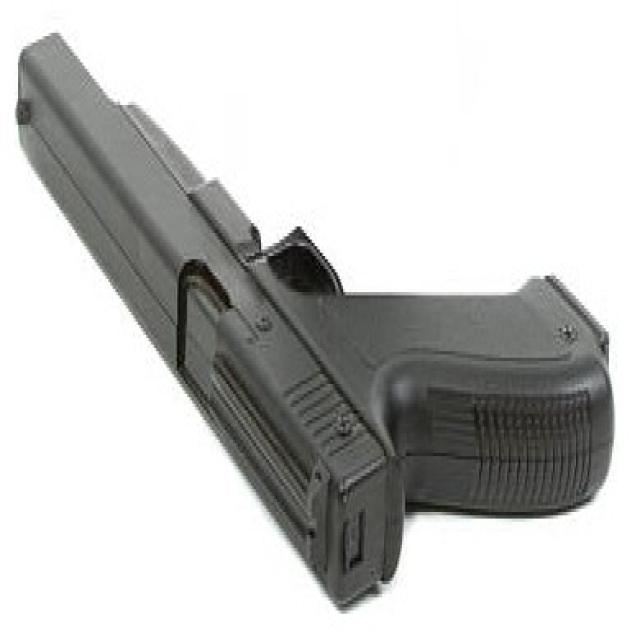pistol: (12, 26, 618, 627)
